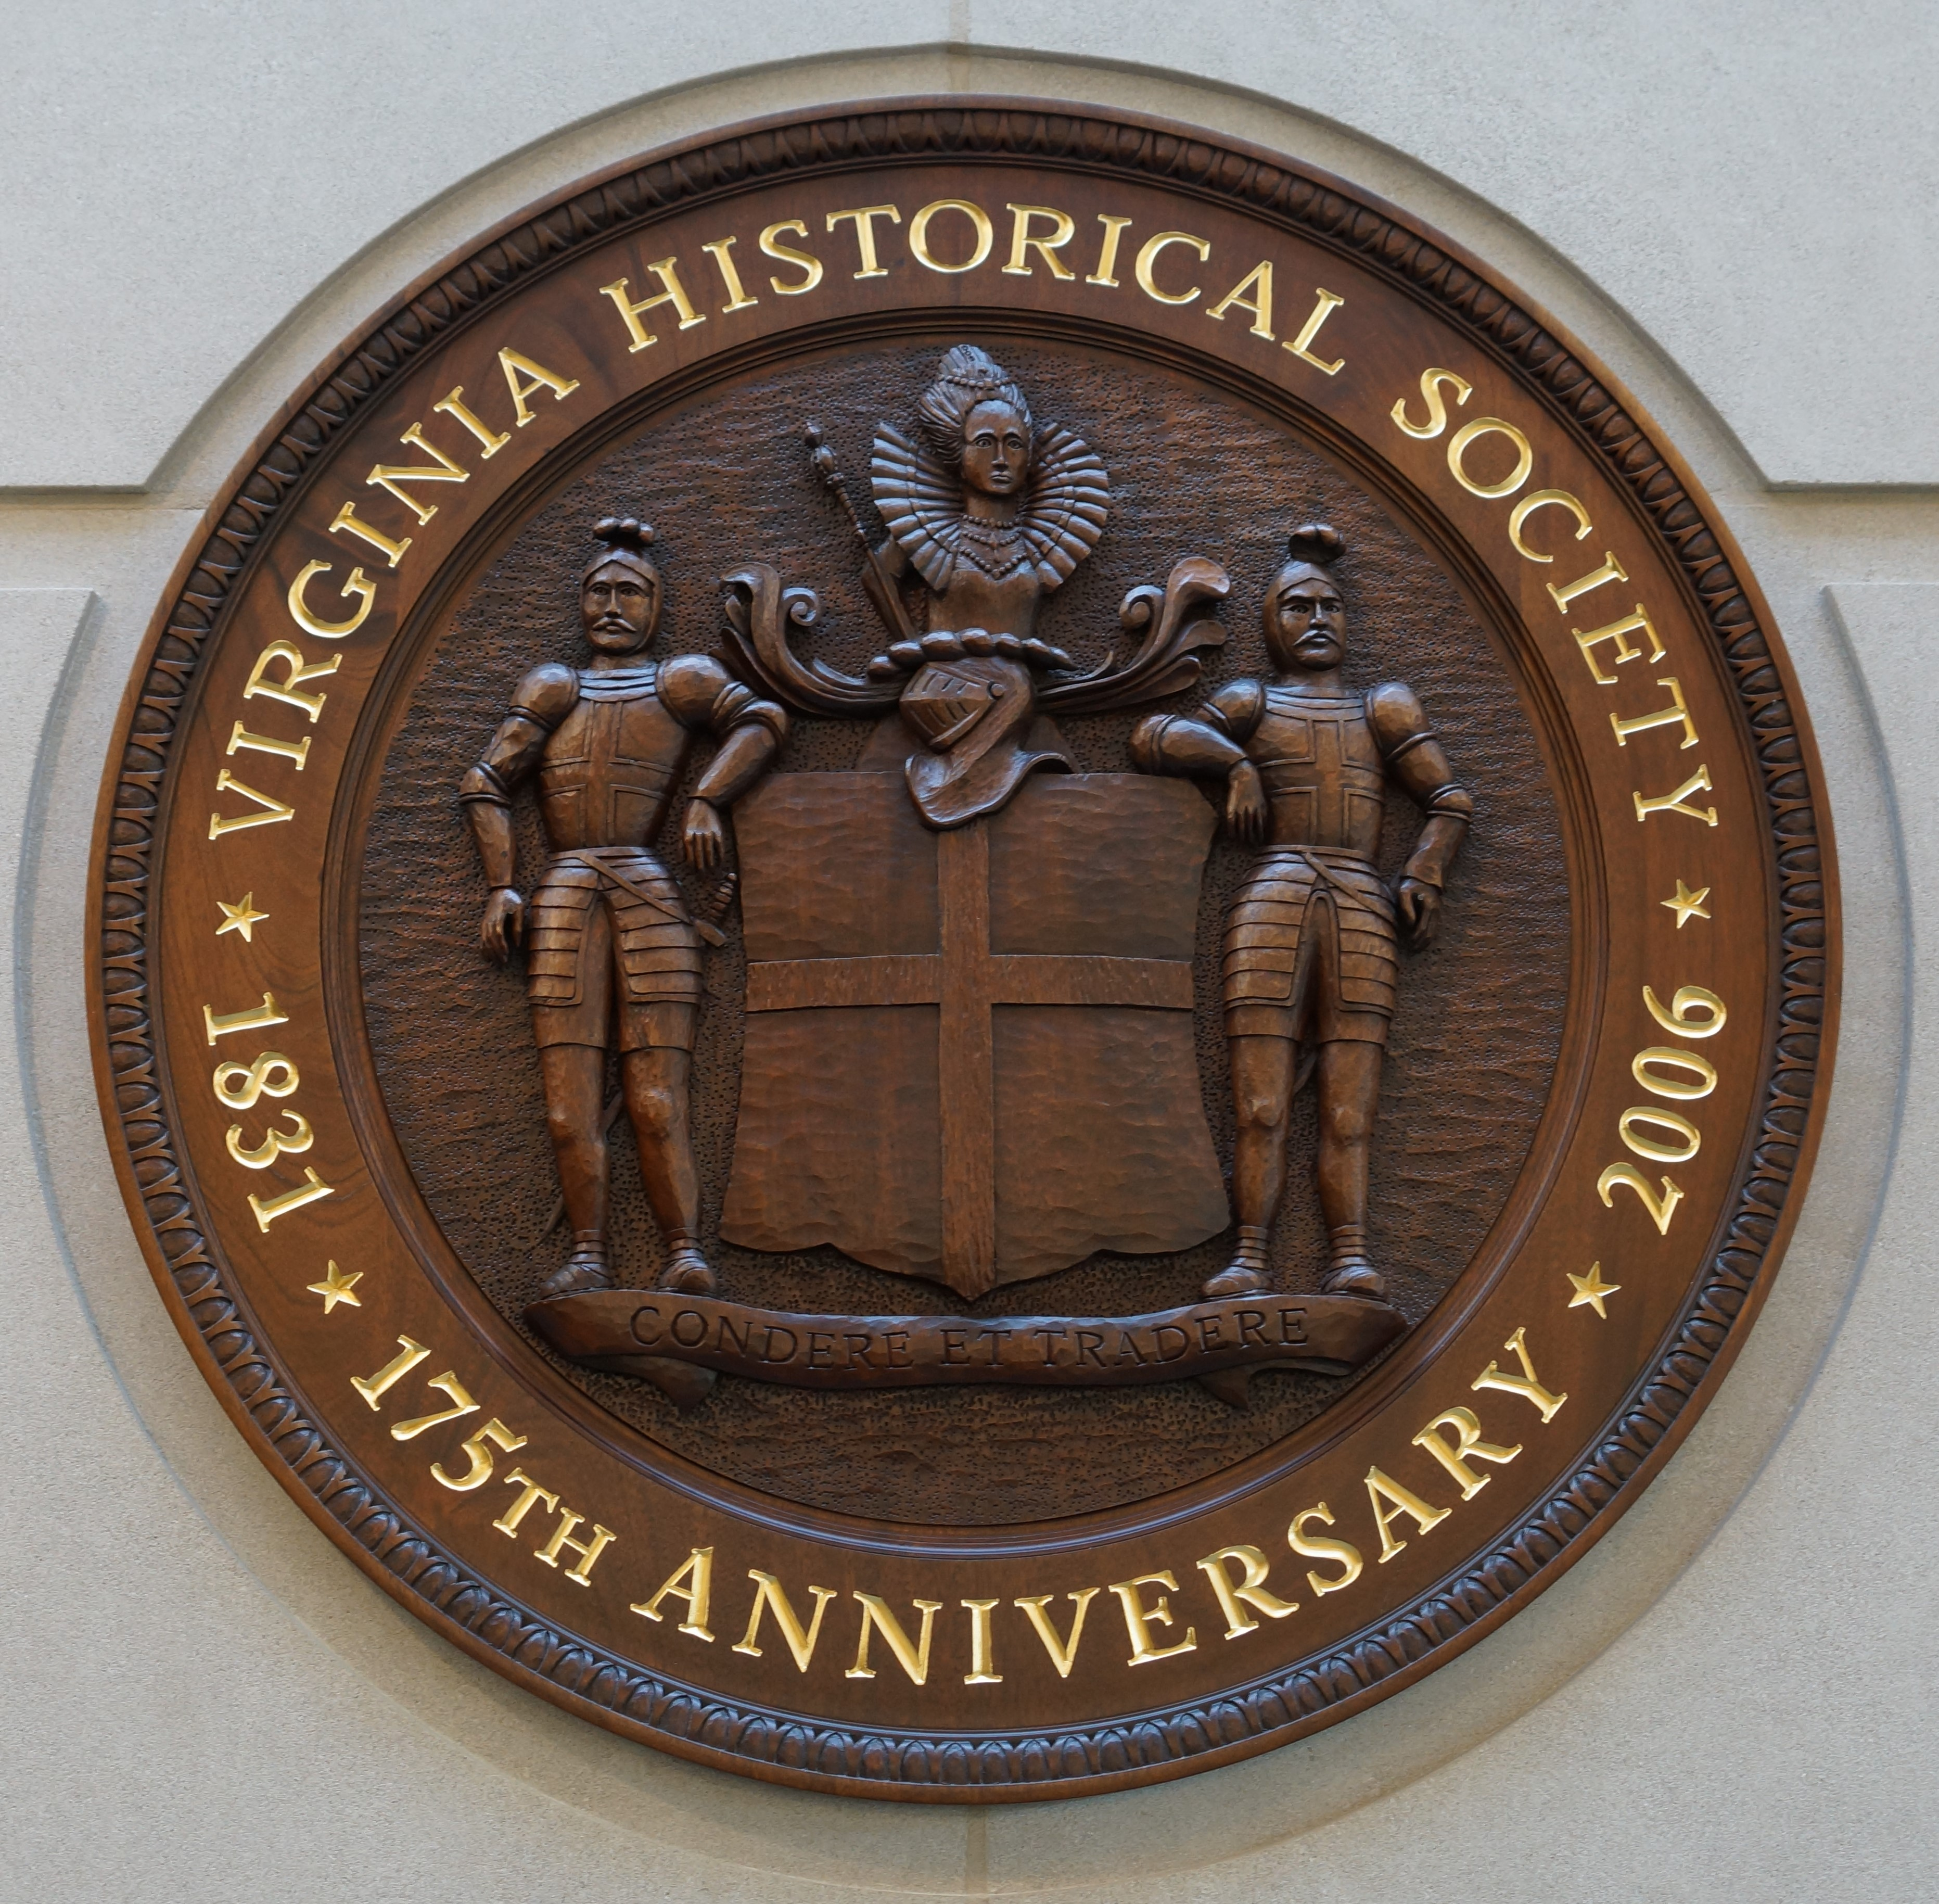Person: (1131, 523, 1473, 1297), (457, 516, 789, 1299), (871, 344, 1108, 640)
